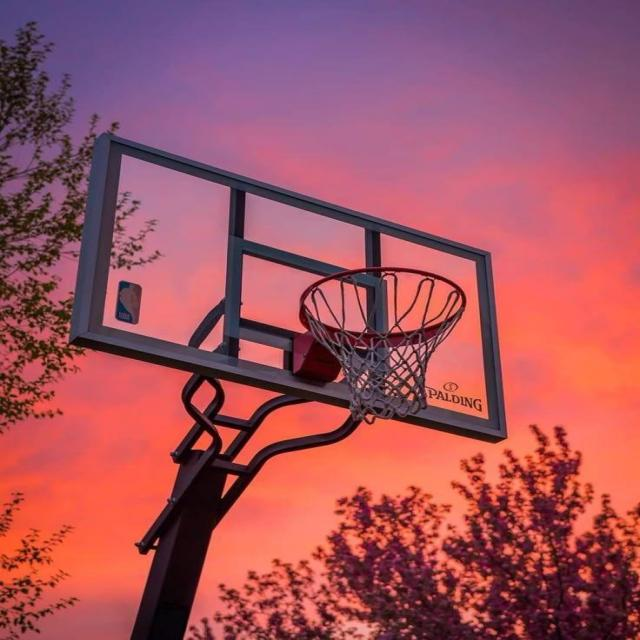hoop: (277, 260, 482, 431)
